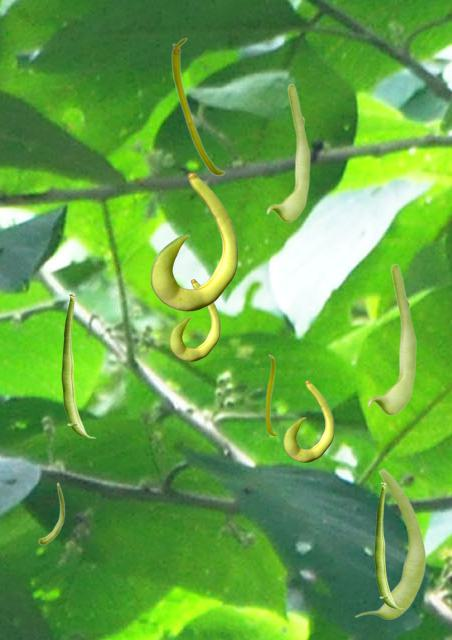french_bean: (150, 172, 237, 310), (354, 467, 425, 618), (171, 37, 224, 175), (367, 263, 415, 414), (266, 83, 309, 221), (61, 292, 95, 437), (283, 380, 333, 461), (169, 279, 219, 360), (374, 482, 403, 608), (38, 482, 64, 544), (265, 354, 277, 435)
